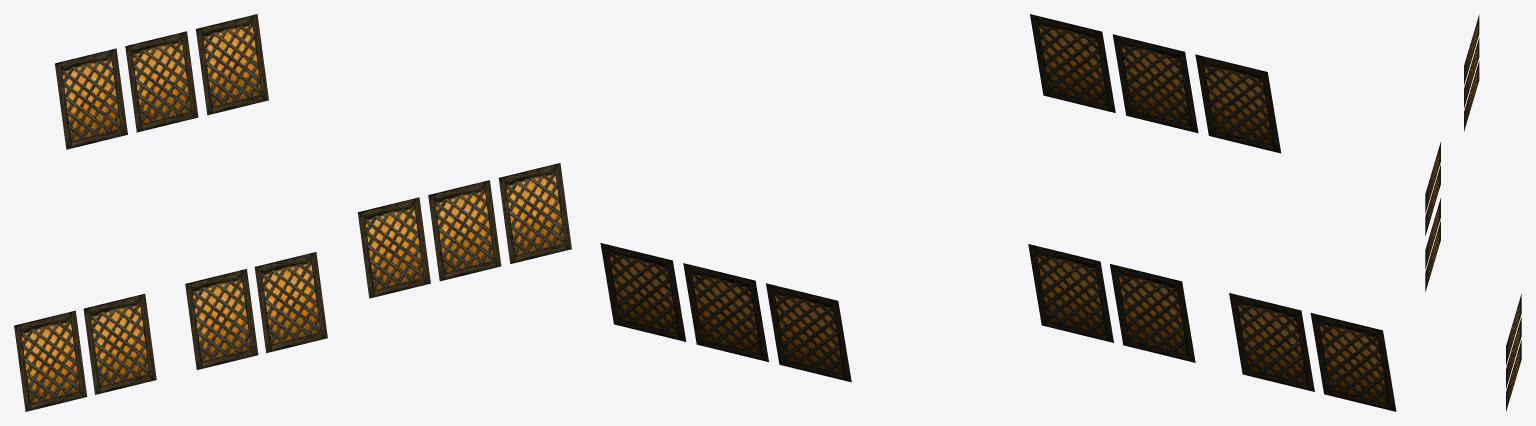
File: LAKETOWN_EXTERIOR_PS_LT_WINDOWS2359.fbx
The picture shows the model from 3 angles, left to right: view 1: azimuth 30°, elevation 25°; view 2: azimuth 150°, elevation 25°; view 3: azimuth 270°, elevation 25°; orthographic projection. The views are drawn at different scales.
Visible parts, largest first — view 1: LAKETOWN_EXTERIOR_PS_LT_WINDOWS2359; view 2: LAKETOWN_EXTERIOR_PS_LT_WINDOWS2359; view 3: LAKETOWN_EXTERIOR_PS_LT_WINDOWS2359.
Part boxes in pixels (x1,y1,x2,y2): LAKETOWN_EXTERIOR_PS_LT_WINDOWS2359: [14, 14, 571, 411]; LAKETOWN_EXTERIOR_PS_LT_WINDOWS2359: [600, 14, 1396, 411]; LAKETOWN_EXTERIOR_PS_LT_WINDOWS2359: [1425, 15, 1521, 411].
Size of the model in its own units: 103098 by 53828 by 21114.
Materials: 1 (1 with a texture image).
